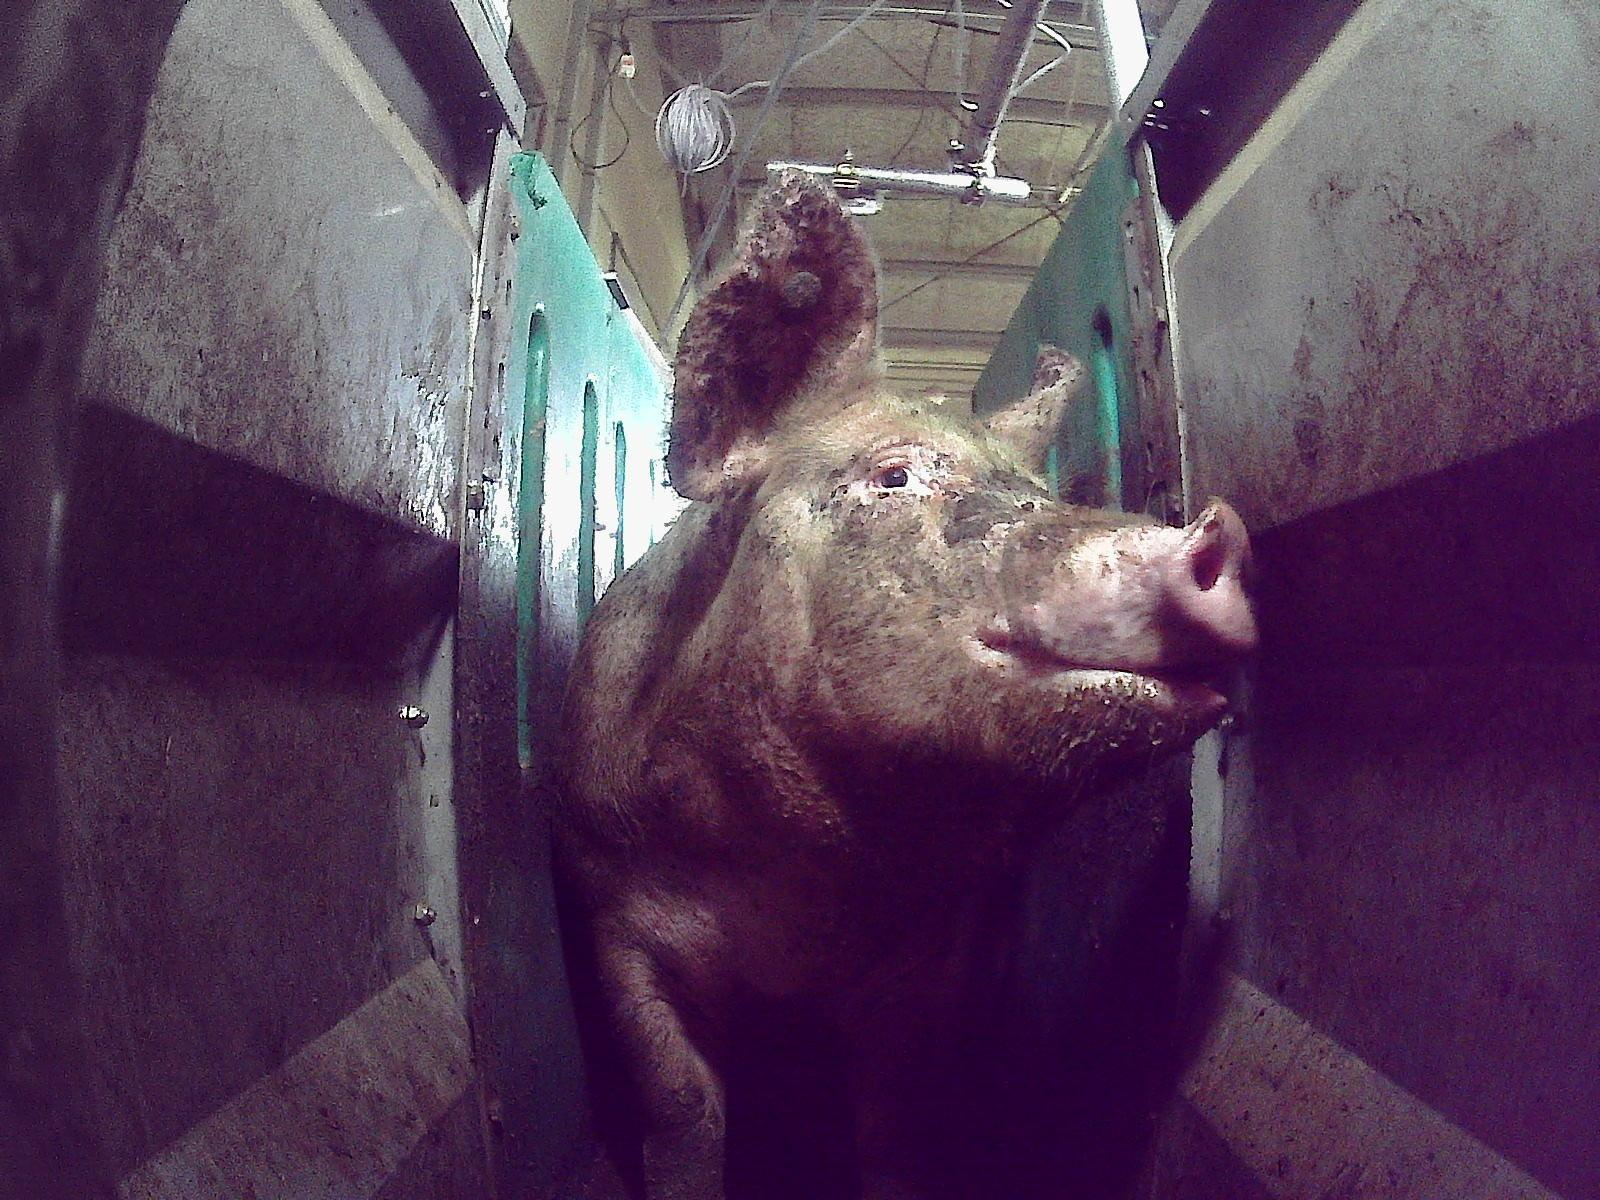Face: (662, 385, 1260, 893)
